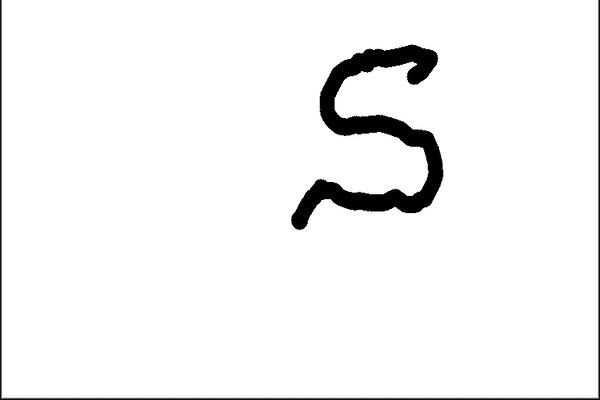S: (284, 38, 450, 233)
